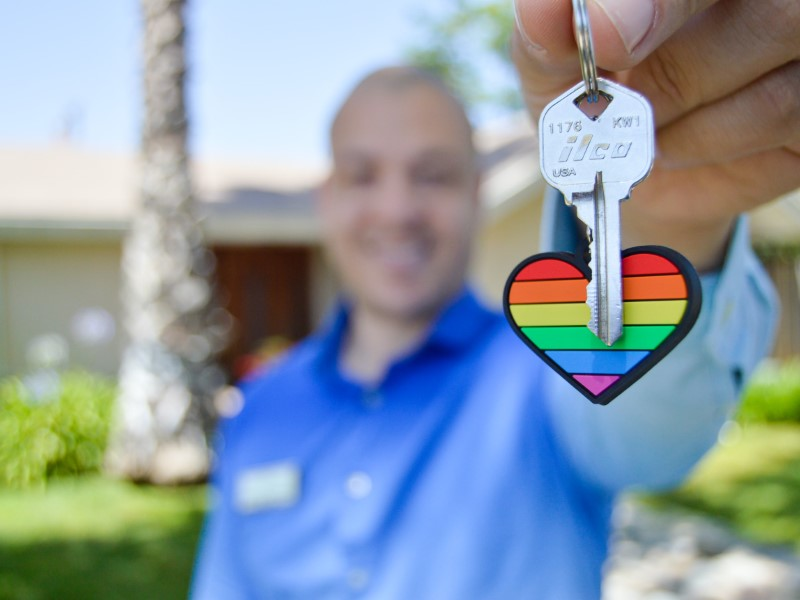key: (537, 74, 659, 344)
